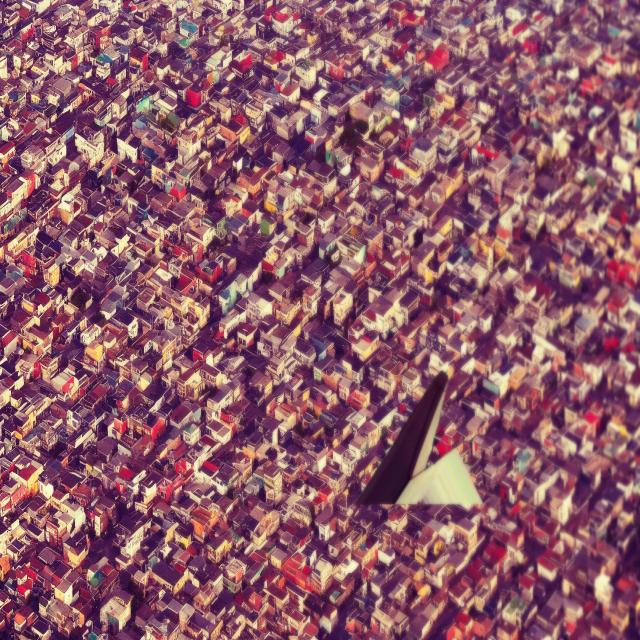airplane: (355, 368, 483, 512)
